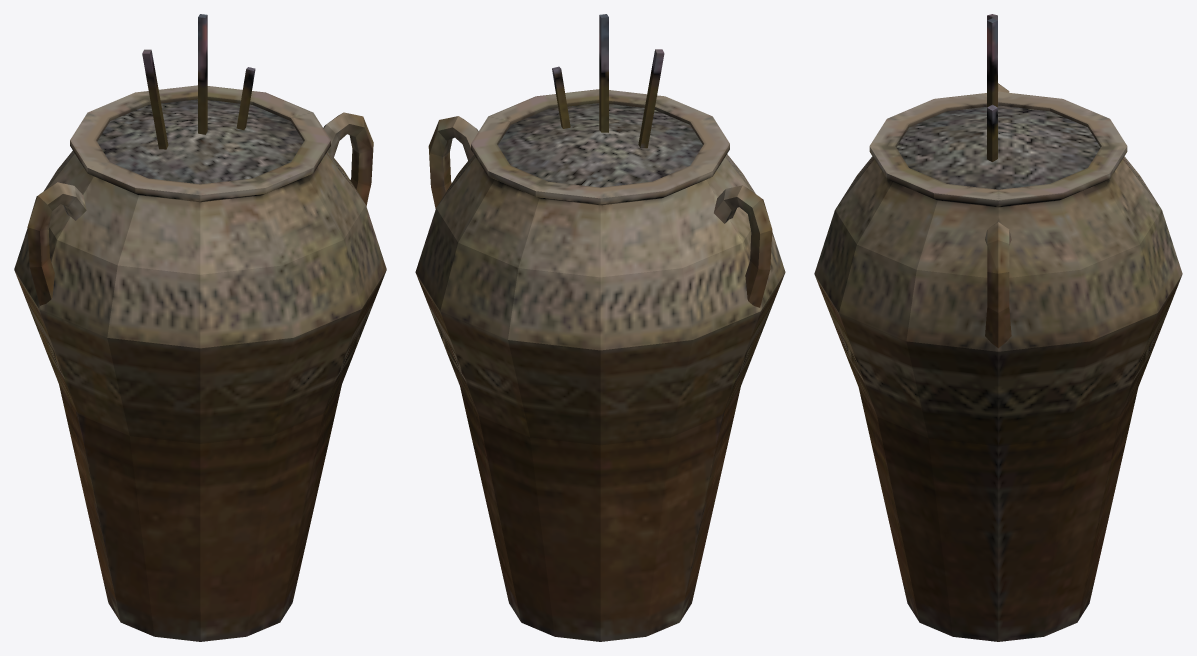
File: GuanZi_2.fbx
3 views of the same model, side by side, from view 1: azimuth 30°, elevation 25°; view 2: azimuth 150°, elevation 25°; view 3: azimuth 270°, elevation 25° (orthographic).
Parts seen in each view (by area): view 1: 3D_GuanZi3.mo; view 2: 3D_GuanZi3.mo; view 3: 3D_GuanZi3.mo.
Part boxes in pixels (x1,y1,x2,y2): 3D_GuanZi3.mo: (14, 14, 386, 641); 3D_GuanZi3.mo: (415, 14, 785, 641); 3D_GuanZi3.mo: (814, 14, 1182, 641).
Bounding box in the file's own units: 13.57 × 22.08 × 12.65.
1 material, 1 textured.
